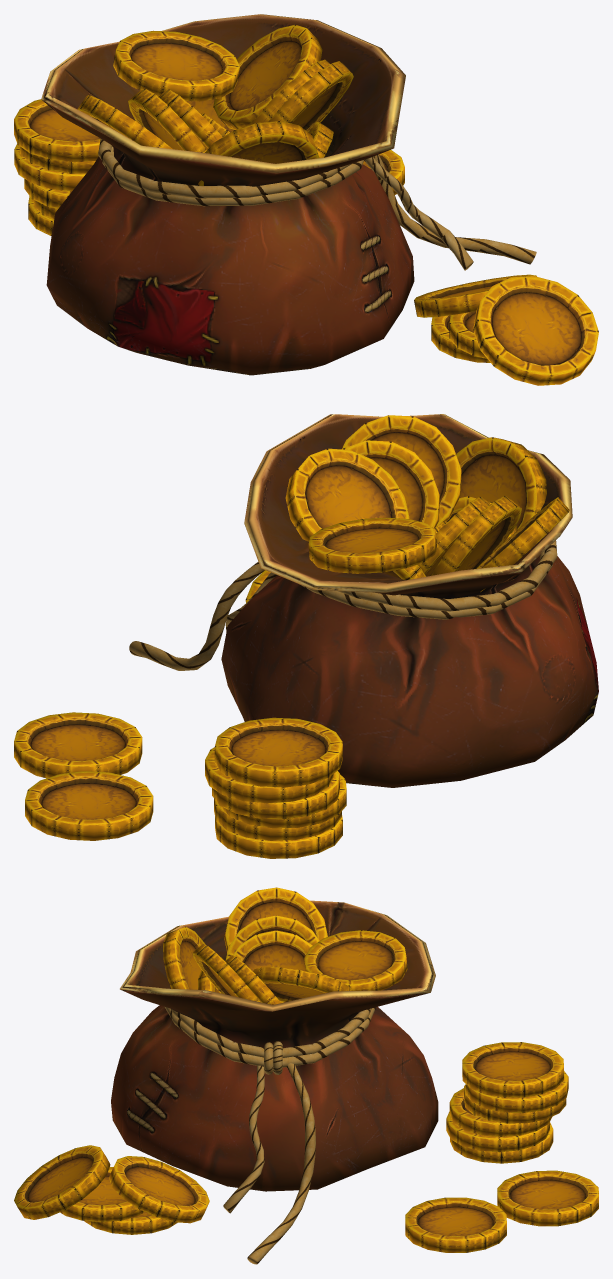
Rendered from goldmoney_bag.glb.
3 renders of one model, top to bottom at view 1: azimuth 30°, elevation 25°; view 2: azimuth 150°, elevation 25°; view 3: azimuth 270°, elevation 25°, orthographic. The views are drawn at different scales.
Parts seen in each view (by area): view 1: Sack_low, Coinbasic_low23, Coinbasic_low10, Coinbasic_low13, Coinbasic_low19, Coinbasic_low4, Rope1_low, Coinbasic_low6, Coinbasic_low1, Rope1_low1, Coinbasic_low22, Rope4_low (+12 smaller); view 2: Sack_low, Coinbasic_low13, Coinbasic_low19, Coinbasic_low24, Coinbasic_low25, Coinbasic_low10, Coinbasic_low4, Coinbasic_low6, Coinbasic_low8, Coinbasic_low1, Rope1_low, Rope4_low (+8 smaller); view 3: Sack_low, Coinbasic_low10, Coinbasic_low25, Coinbasic_low19, Coinbasic_low24, Coinbasic_low22, Coinbasic_low23, Coinbasic_low, Coinbasic_low2, Rope4_low, Coinbasic_low13, Coinbasic_low4 (+13 smaller).
Part boxes in pixels (x1=…): Sack_low: x1=41, y1=14, x2=414, y2=375; Coinbasic_low23: x1=473, y1=276, x2=598, y2=385; Coinbasic_low10: x1=113, y1=30, x2=239, y2=101; Coinbasic_low13: x1=213, y1=24, x2=322, y2=129; Coinbasic_low19: x1=14, y1=99, x2=100, y2=162; Coinbasic_low4: x1=198, y1=121, x2=319, y2=185; Rope1_low: x1=98, y1=138, x2=352, y2=198; Coinbasic_low6: x1=268, y1=61, x2=353, y2=132; Coinbasic_low1: x1=128, y1=88, x2=206, y2=152; Rope1_low1: x1=102, y1=145, x2=364, y2=206; Coinbasic_low22: x1=414, y1=274, x2=536, y2=317; Rope4_low: x1=371, y1=154, x2=536, y2=264; Sack_low: x1=221, y1=414, x2=598, y2=787; Coinbasic_low13: x1=285, y1=448, x2=409, y2=541; Coinbasic_low19: x1=214, y1=717, x2=342, y2=787; Coinbasic_low24: x1=25, y1=771, x2=153, y2=840; Coinbasic_low25: x1=14, y1=712, x2=142, y2=778; Coinbasic_low10: x1=308, y1=517, x2=436, y2=573; Coinbasic_low4: x1=456, y1=437, x2=546, y2=529; Coinbasic_low6: x1=342, y1=415, x2=461, y2=526; Coinbasic_low8: x1=342, y1=440, x2=439, y2=528; Coinbasic_low1: x1=431, y1=496, x2=521, y2=575; Rope1_low: x1=337, y1=540, x2=557, y2=611; Rope4_low: x1=129, y1=561, x2=264, y2=670; Sack_low: x1=111, y1=900, x2=438, y2=1191; Coinbasic_low10: x1=304, y1=930, x2=407, y2=990; Coinbasic_low25: x1=405, y1=1197, x2=506, y2=1252; Coinbasic_low19: x1=462, y1=1042, x2=563, y2=1097; Coinbasic_low24: x1=497, y1=1170, x2=598, y2=1226; Coinbasic_low22: x1=109, y1=1156, x2=209, y2=1223; Coinbasic_low23: x1=14, y1=1145, x2=110, y2=1219; Coinbasic_low: x1=224, y1=887, x2=327, y2=952; Coinbasic_low2: x1=233, y1=930, x2=312, y2=970; Rope4_low: x1=247, y1=1063, x2=315, y2=1264; Coinbasic_low13: x1=253, y1=967, x2=352, y2=1002; Coinbasic_low4: x1=163, y1=926, x2=205, y2=989.
Size of the model in its own units: 3.7 by 2.13 by 5.07.
Materials: 1 (1 with a texture image).
